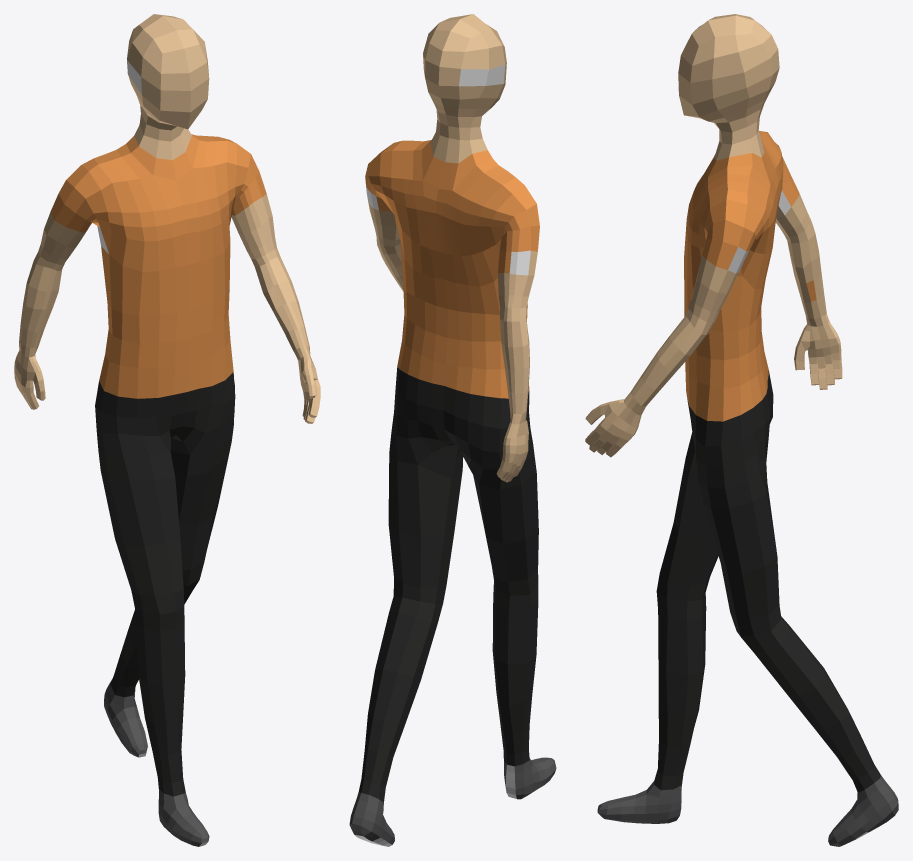
Rendered from Man_2.glb.
3 views of the same model, side by side, from view 1: azimuth 30°, elevation 25°; view 2: azimuth 150°, elevation 25°; view 3: azimuth 270°, elevation 25° (orthographic). The views are drawn at different scales.
Visible parts, largest first — view 1: Man; view 2: Man; view 3: Man.
Part boxes in pixels (left/top/right/bottom): Man: left=14, top=14, right=320, bottom=846; Man: left=349, top=14, right=556, bottom=846; Man: left=585, top=14, right=898, bottom=846.
Bounding box in the file's own units: 2.8 × 10.22 × 3.55.
